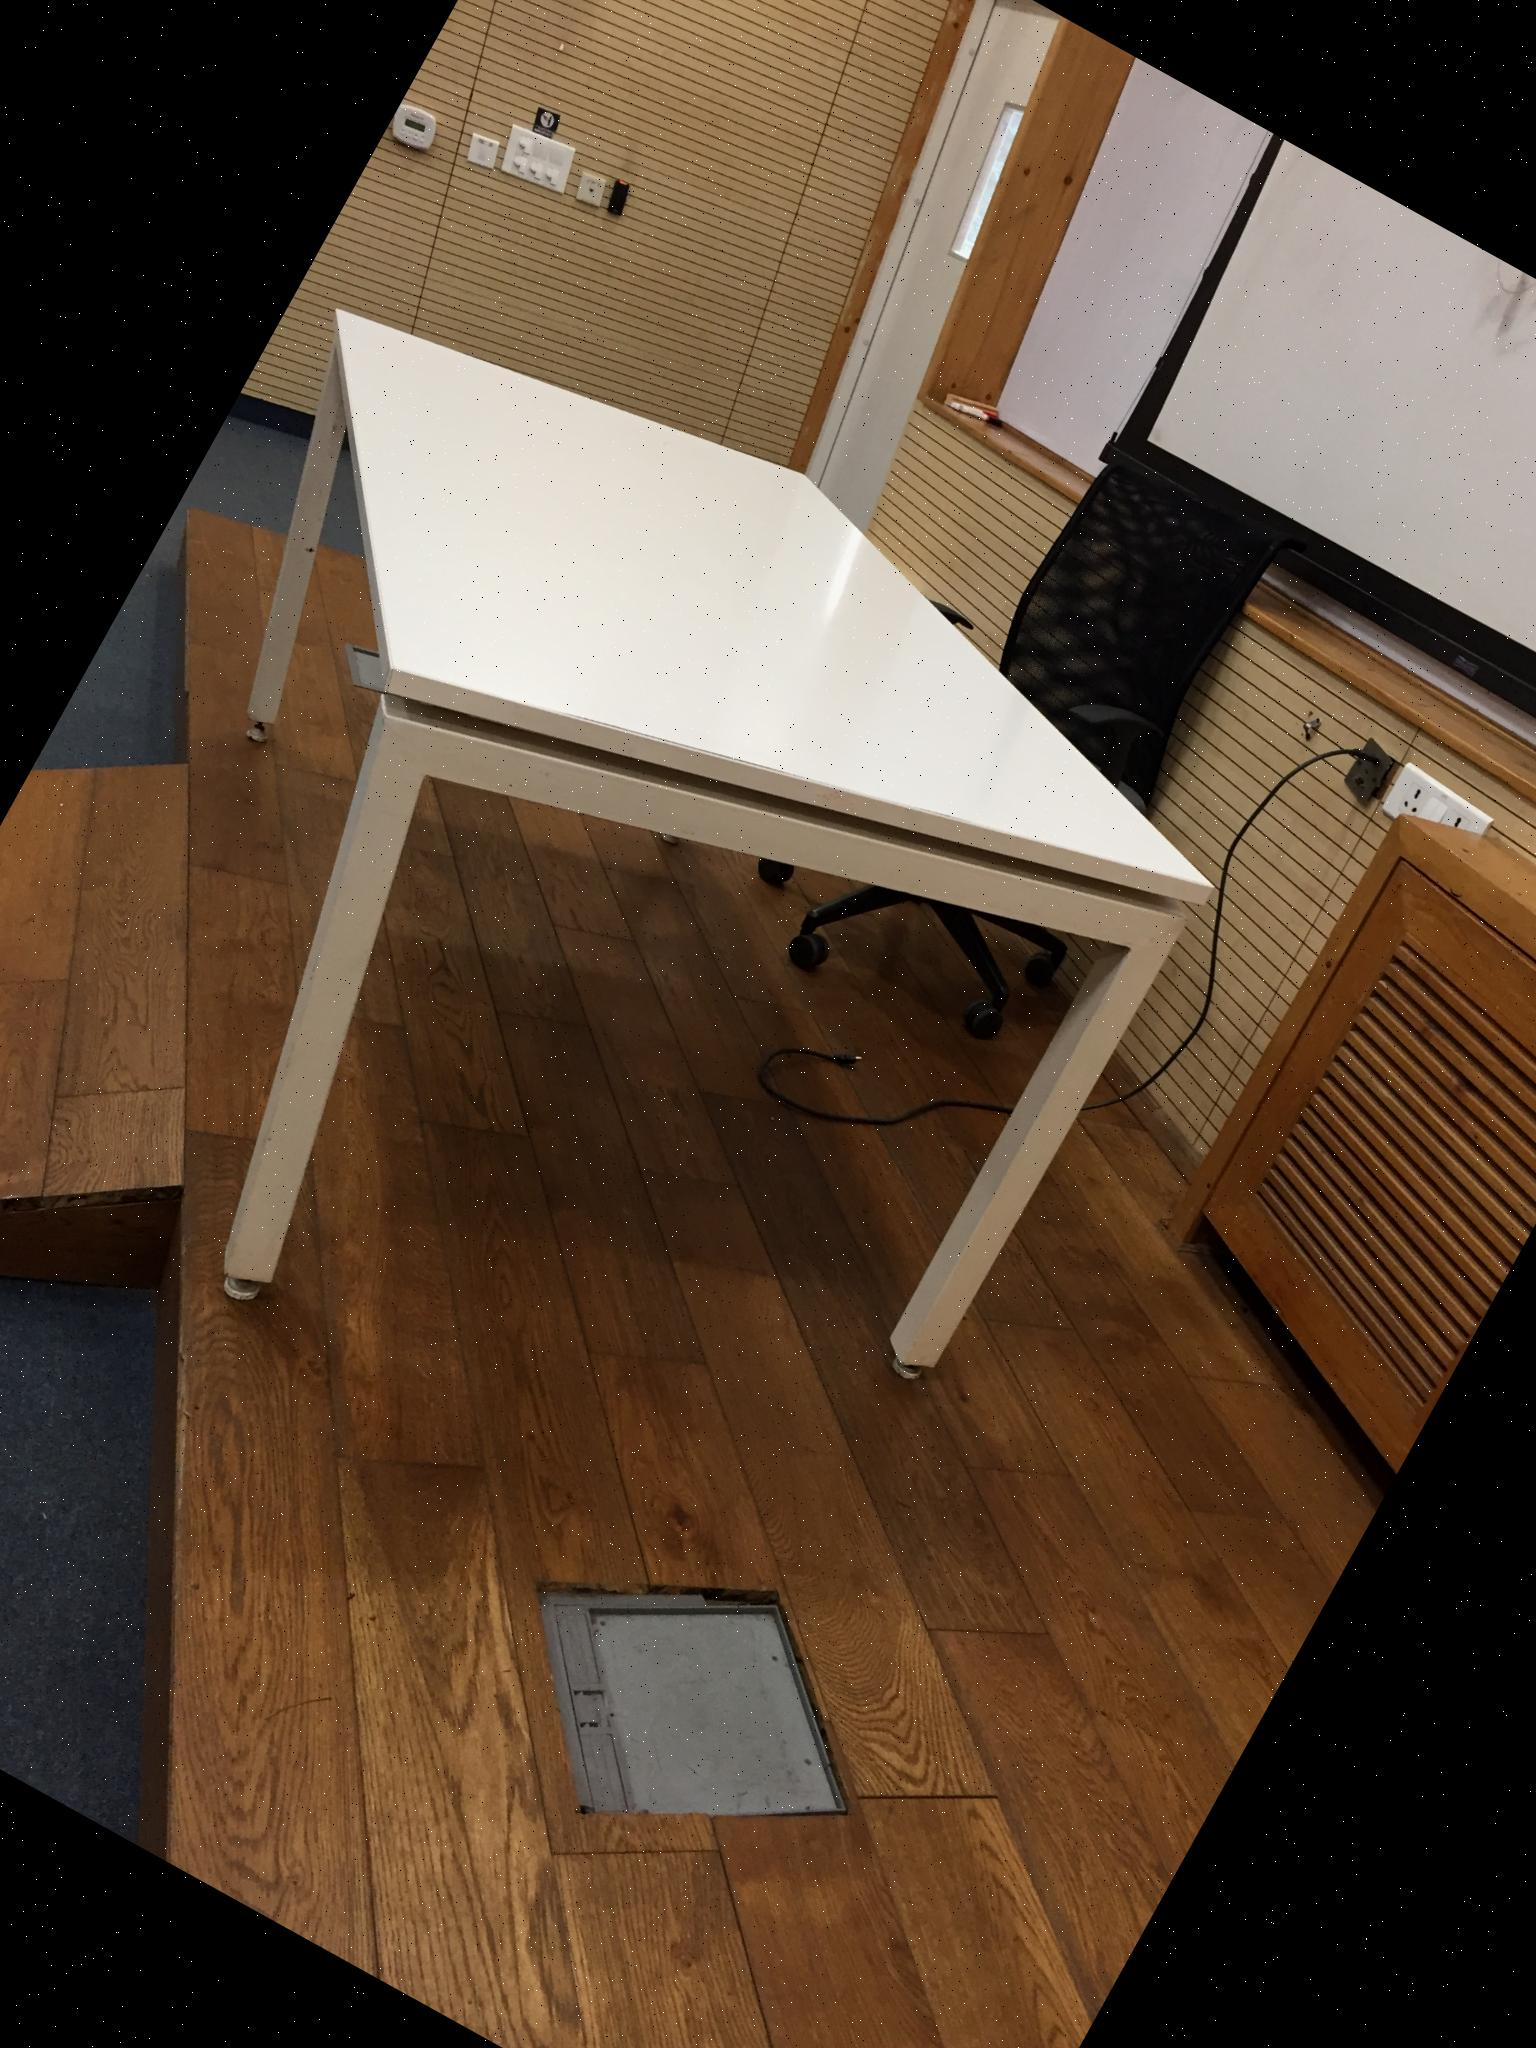chair: (721, 381, 1312, 1085)
